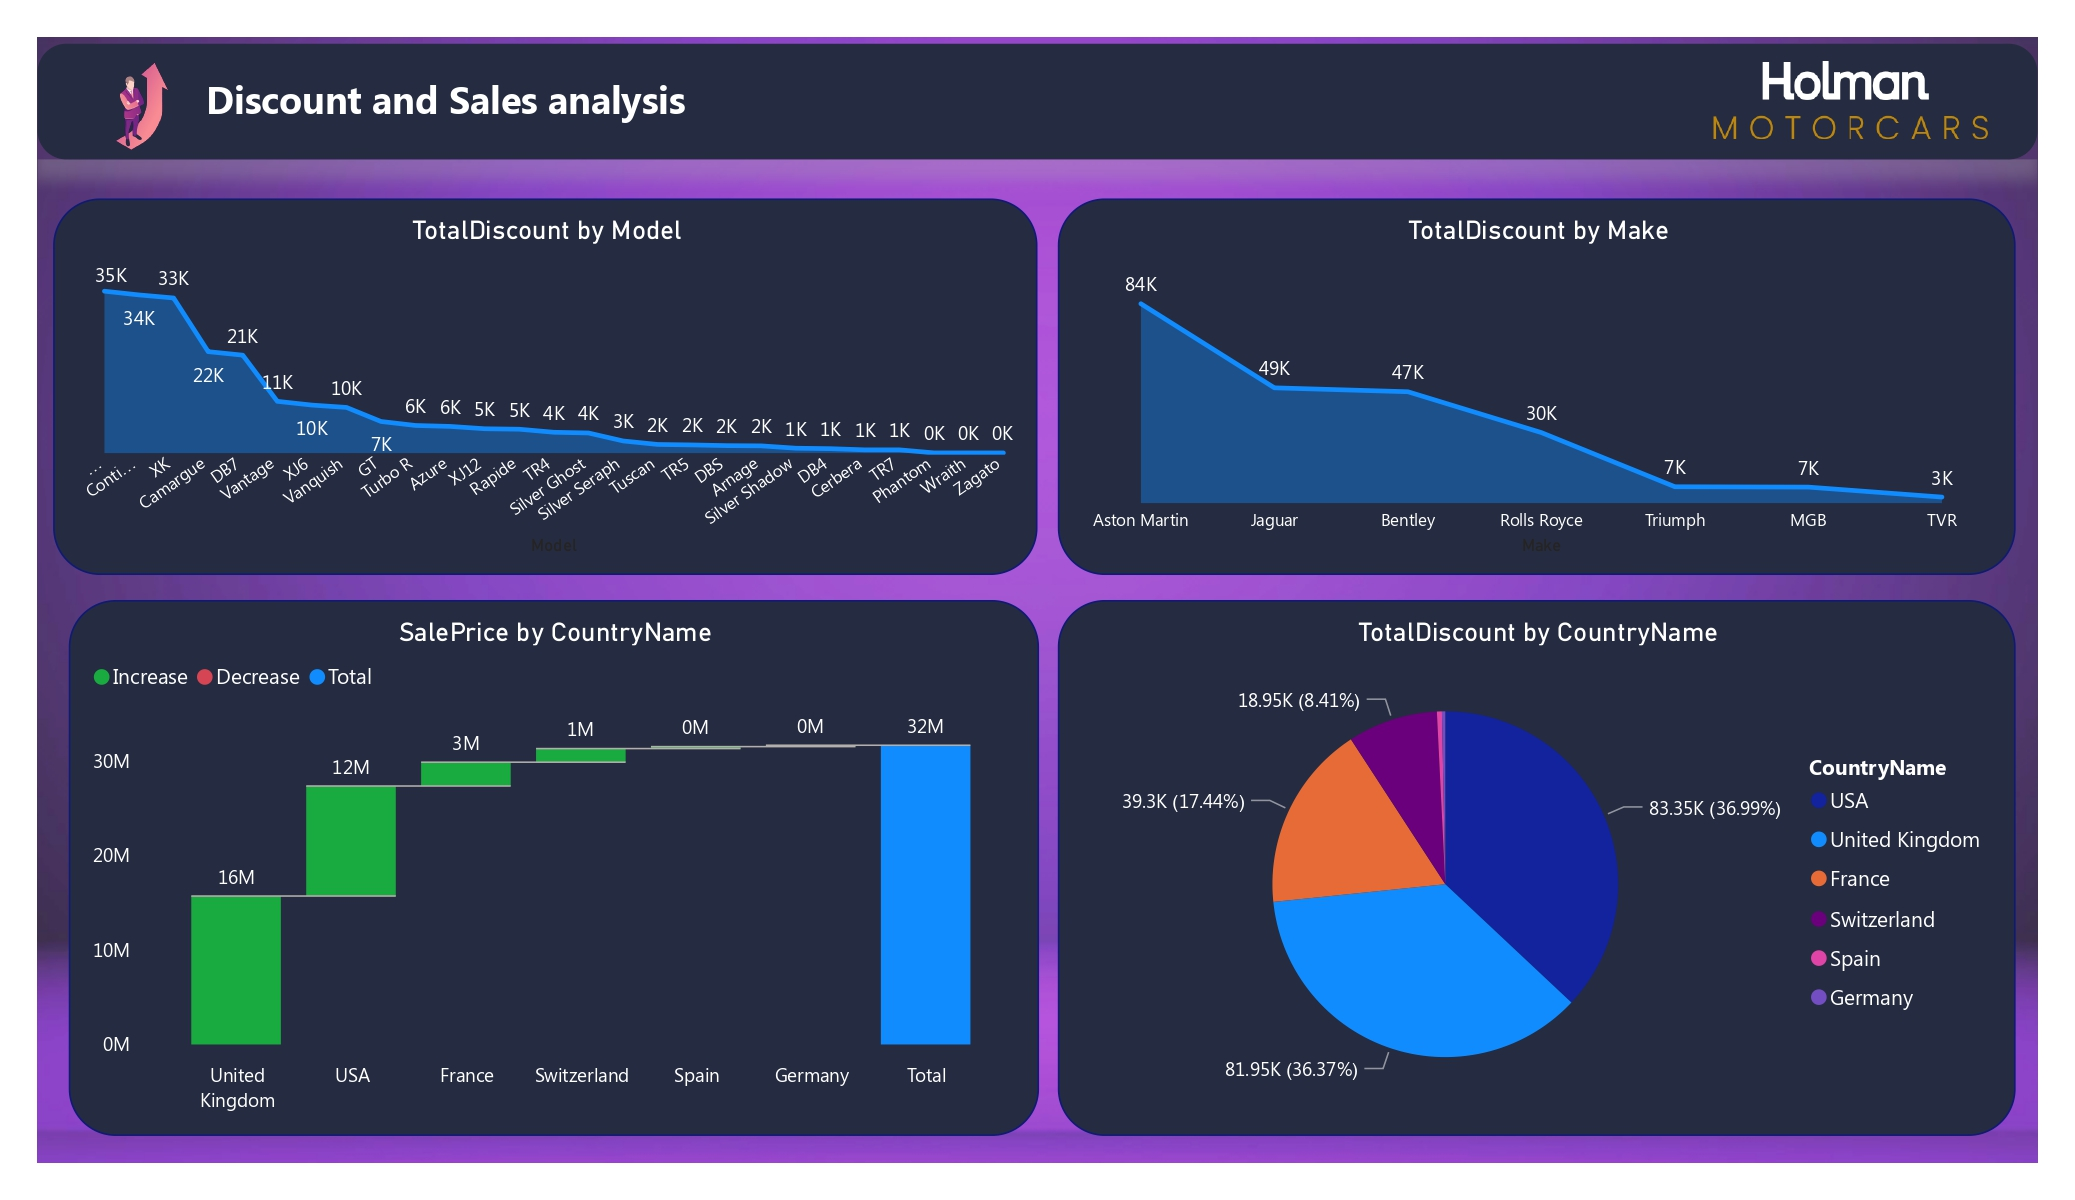

The dashboard page shown, as its layout file describes it:
{"tool":"powerbi","page":{"name":"Discount and Sales analysis","canvas":[1280,720],"ordinal":3},"visuals":[{"type":"waterfallChart","fields":{"Y":["Sum(BaseData.SalePrice)"],"Category":["BaseData.CountryName"]},"box":[20,360,621.4,342.9],"z":0},{"type":"pieChart","fields":{"Y":["Sum(BaseData.TotalDiscount)"],"Category":["BaseData.CountryName"]},"box":[652.9,360,612.9,342.9],"z":1000},{"type":"areaChart","fields":{"Y":["Sum(BaseData.TotalDiscount)"],"Category":["BaseData.Make"]},"box":[652.9,102.9,612.9,241.4],"z":2000},{"type":"areaChart","fields":{"Category":["BaseData.Model"],"Y":["Sum(BaseData.TotalDiscount)"]},"box":[10,102.9,630,241.4],"z":3000},{"type":"shape","box":[0,3.8,1280,73.8],"z":4000},{"type":"textbox","box":[103.3,18.3,365,58.3],"z":5000},{"type":"image","box":[1064.3,10,191.4,60],"z":6000},{"type":"image","box":[10,0,112.9,84.3],"z":7000}]}

Visuals, with their boxes on the page's 1280x720 design canvas (x1, y1, x2, y2). These are canvas units, not pixel positions in the 2075x1200 screenshot, which may show the page scaled, cropped or inside an application window:
waterfallChart - Sum(BaseData.SalePrice) x BaseData.CountryName: left=20, top=360, right=641, bottom=703
pieChart - Sum(BaseData.TotalDiscount) x BaseData.CountryName: left=653, top=360, right=1266, bottom=703
areaChart - Sum(BaseData.TotalDiscount) x BaseData.Make: left=653, top=103, right=1266, bottom=344
areaChart - BaseData.Model x Sum(BaseData.TotalDiscount): left=10, top=103, right=640, bottom=344
shape: left=0, top=4, right=1280, bottom=78
textbox: left=103, top=18, right=468, bottom=77
image: left=1064, top=10, right=1256, bottom=70
image: left=10, top=0, right=123, bottom=84
